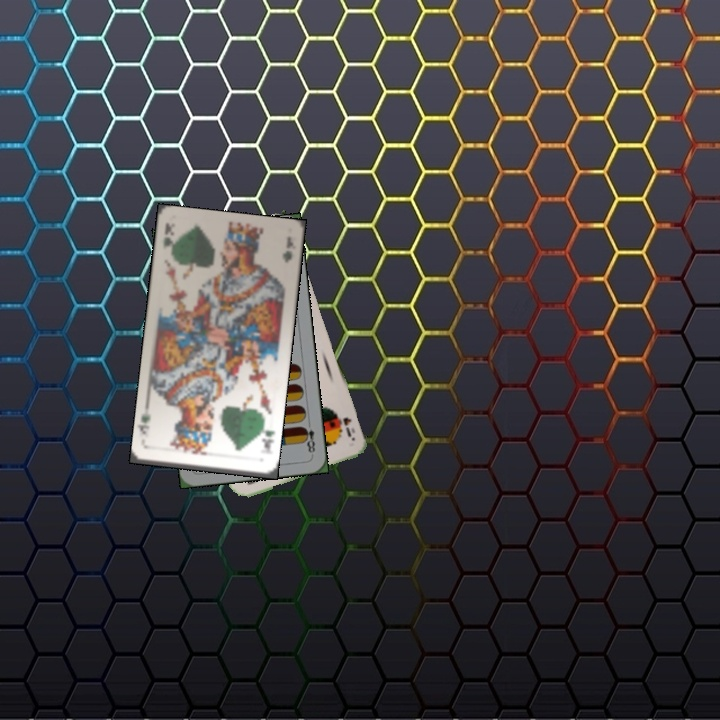E8: (299, 417, 317, 457)
GK: (258, 420, 277, 454), (159, 220, 177, 249)
SO: (339, 413, 358, 440)
